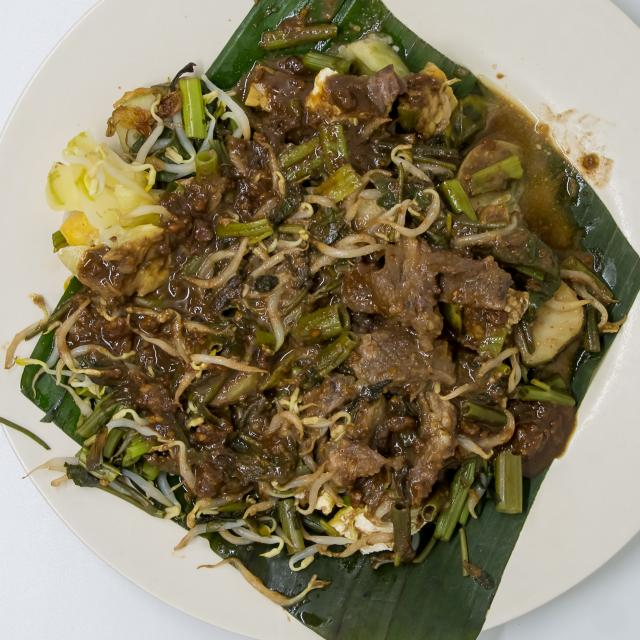Rujak-Cingur: (27, 42, 607, 571)
